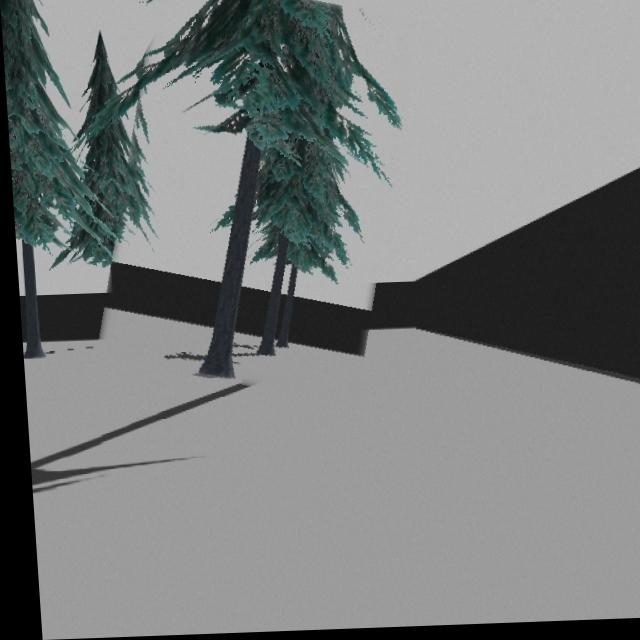tree: (138, 0, 400, 381)
